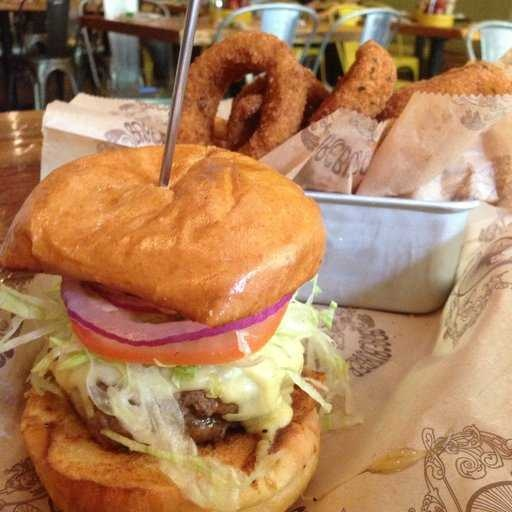hamburger: (28, 138, 318, 504)
